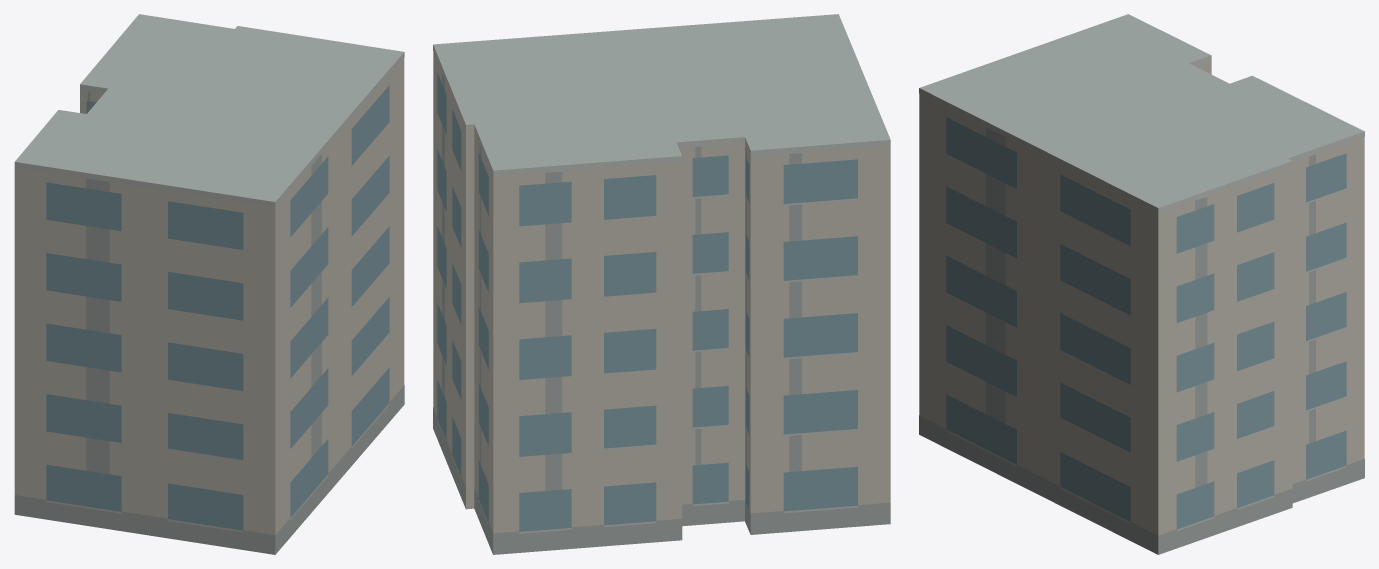
File: survey-upis-32682515.glb
3 renders of one model, left to right at view 1: azimuth 30°, elevation 25°; view 2: azimuth 150°, elevation 25°; view 3: azimuth 270°, elevation 25°, orthographic. The views are drawn at different scales.
Parts seen in each view (by area): view 1: survey-upis-32682515.tmp; view 2: survey-upis-32682515.tmp; view 3: survey-upis-32682515.tmp.
Boxes of the visible parts, x1,y1,x2,y2 form: survey-upis-32682515.tmp: (14, 14, 404, 554); survey-upis-32682515.tmp: (433, 14, 890, 554); survey-upis-32682515.tmp: (919, 14, 1364, 554).
Size of the model in its own units: 17.91 by 14.9 by 17.36.
